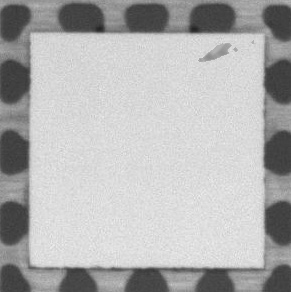DIE_INK: (195, 42, 237, 64)
